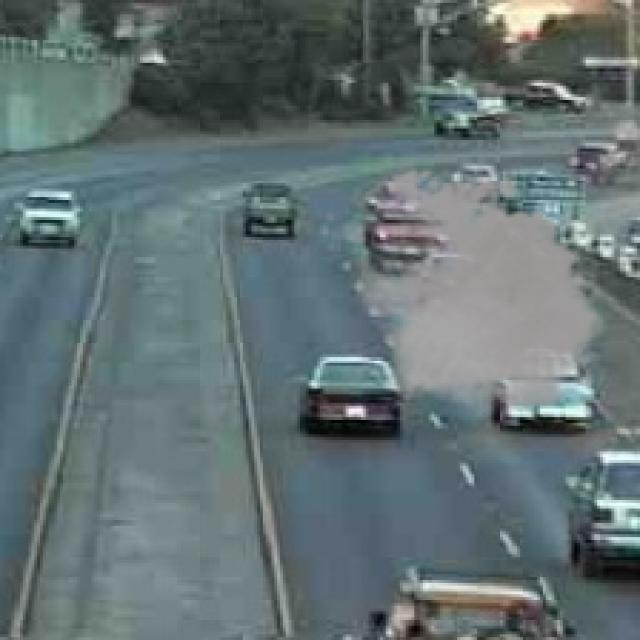Smoke: (343, 160, 614, 420)
